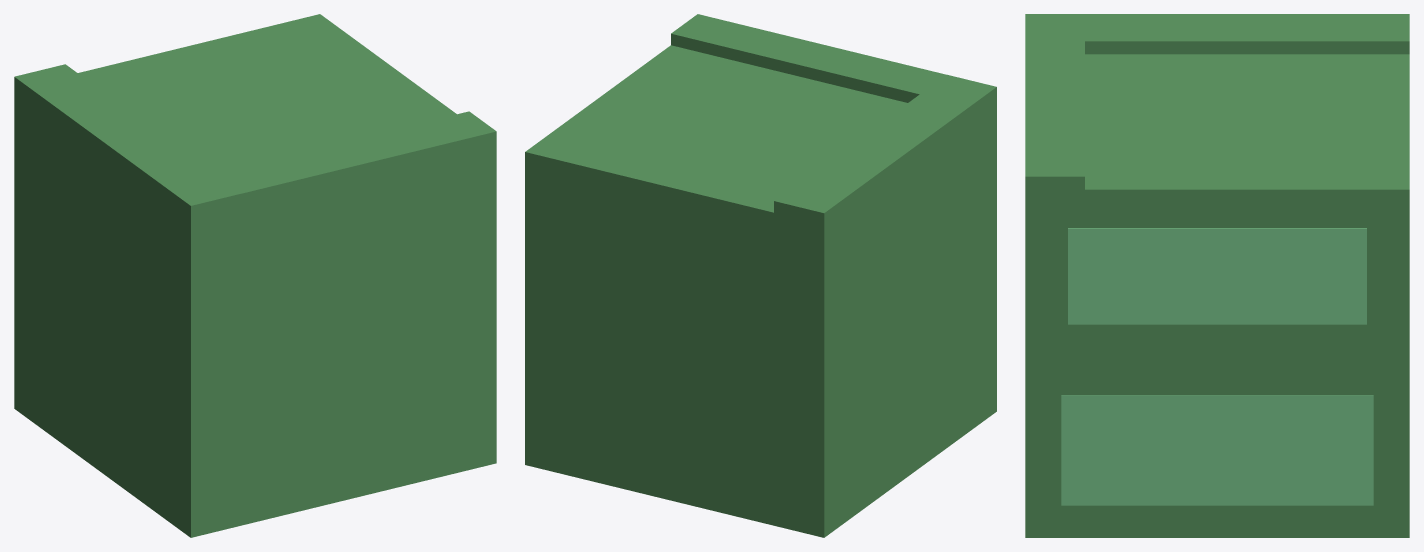
Rendered from esquinero.fbx.
3 views of the same model, side by side, from view 1: azimuth 30°, elevation 25°; view 2: azimuth 150°, elevation 25°; view 3: azimuth 270°, elevation 25° (orthographic). The views are drawn at different scales.
Parts seen in each view (by area): view 1: Cube; view 2: Cube; view 3: Cube.
Part boxes in pixels (bbox=[...]): Cube: bbox=[14, 14, 496, 537]; Cube: bbox=[525, 14, 996, 537]; Cube: bbox=[1025, 14, 1409, 537].
Bounding box in the file's own units: 100 × 104 × 100.
